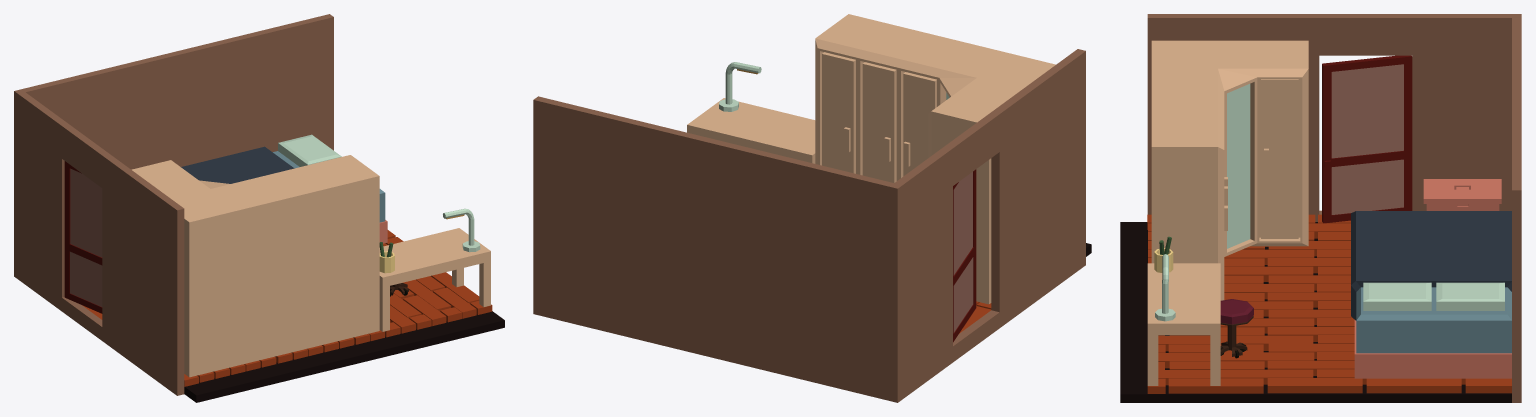
Rendered from Bedroom.fbx.
3 renders of one model, left to right at view 1: azimuth 30°, elevation 25°; view 2: azimuth 150°, elevation 25°; view 3: azimuth 270°, elevation 25°, orthographic. The views are drawn at different scales.
Visible parts, largest first — view 1: BedroomWall, BedroomUnit, BedroomFloor, Door.002, Bed; view 2: BedroomWall, BedroomUnit, Door.002; view 3: BedroomUnit, BedroomFloor, BedroomWall, Bed, Door.002, LaundryBox.
Boxes of the visible parts, left/top/right/bottom form: BedroomWall: left=14, top=14, right=333, bottom=395; BedroomUnit: left=131, top=155, right=490, bottom=377; BedroomFloor: left=82, top=230, right=504, bottom=402; Door.002: left=64, top=161, right=102, bottom=313; Bed: left=181, top=134, right=387, bottom=243; BedroomWall: left=533, top=49, right=1085, bottom=402; BedroomUnit: left=687, top=14, right=1055, bottom=304; Door.002: left=953, top=169, right=976, bottom=342; BedroomUnit: left=1147, top=40, right=1308, bottom=385; BedroomFloor: left=1120, top=214, right=1511, bottom=402; BedroomWall: left=1147, top=14, right=1521, bottom=402; Bed: left=1351, top=211, right=1511, bottom=378; Door.002: left=1322, top=55, right=1412, bottom=223; LaundryBox: left=1423, top=179, right=1501, bottom=210.
Bounding box in the file's own units: 11.47 × 6.44 × 11.02.
